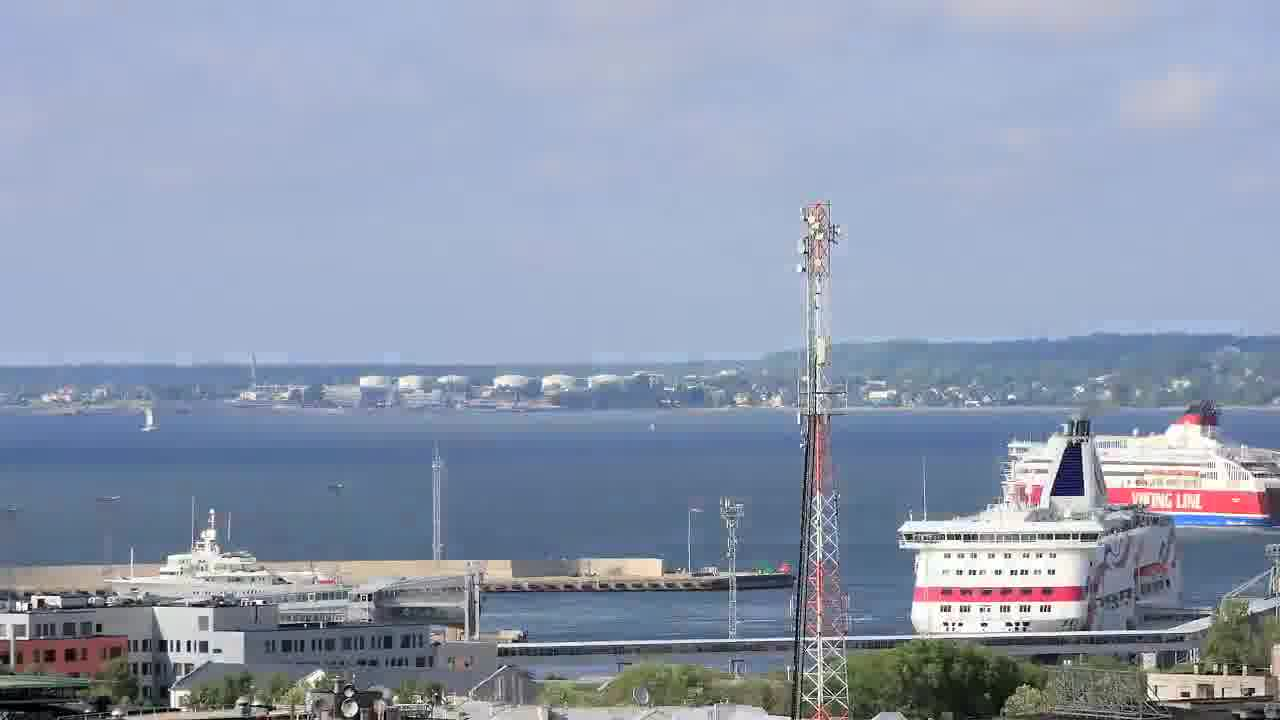type-2: (141, 390, 193, 450)
type-3: (889, 419, 1189, 638), (89, 518, 402, 620), (1083, 419, 1280, 536)
